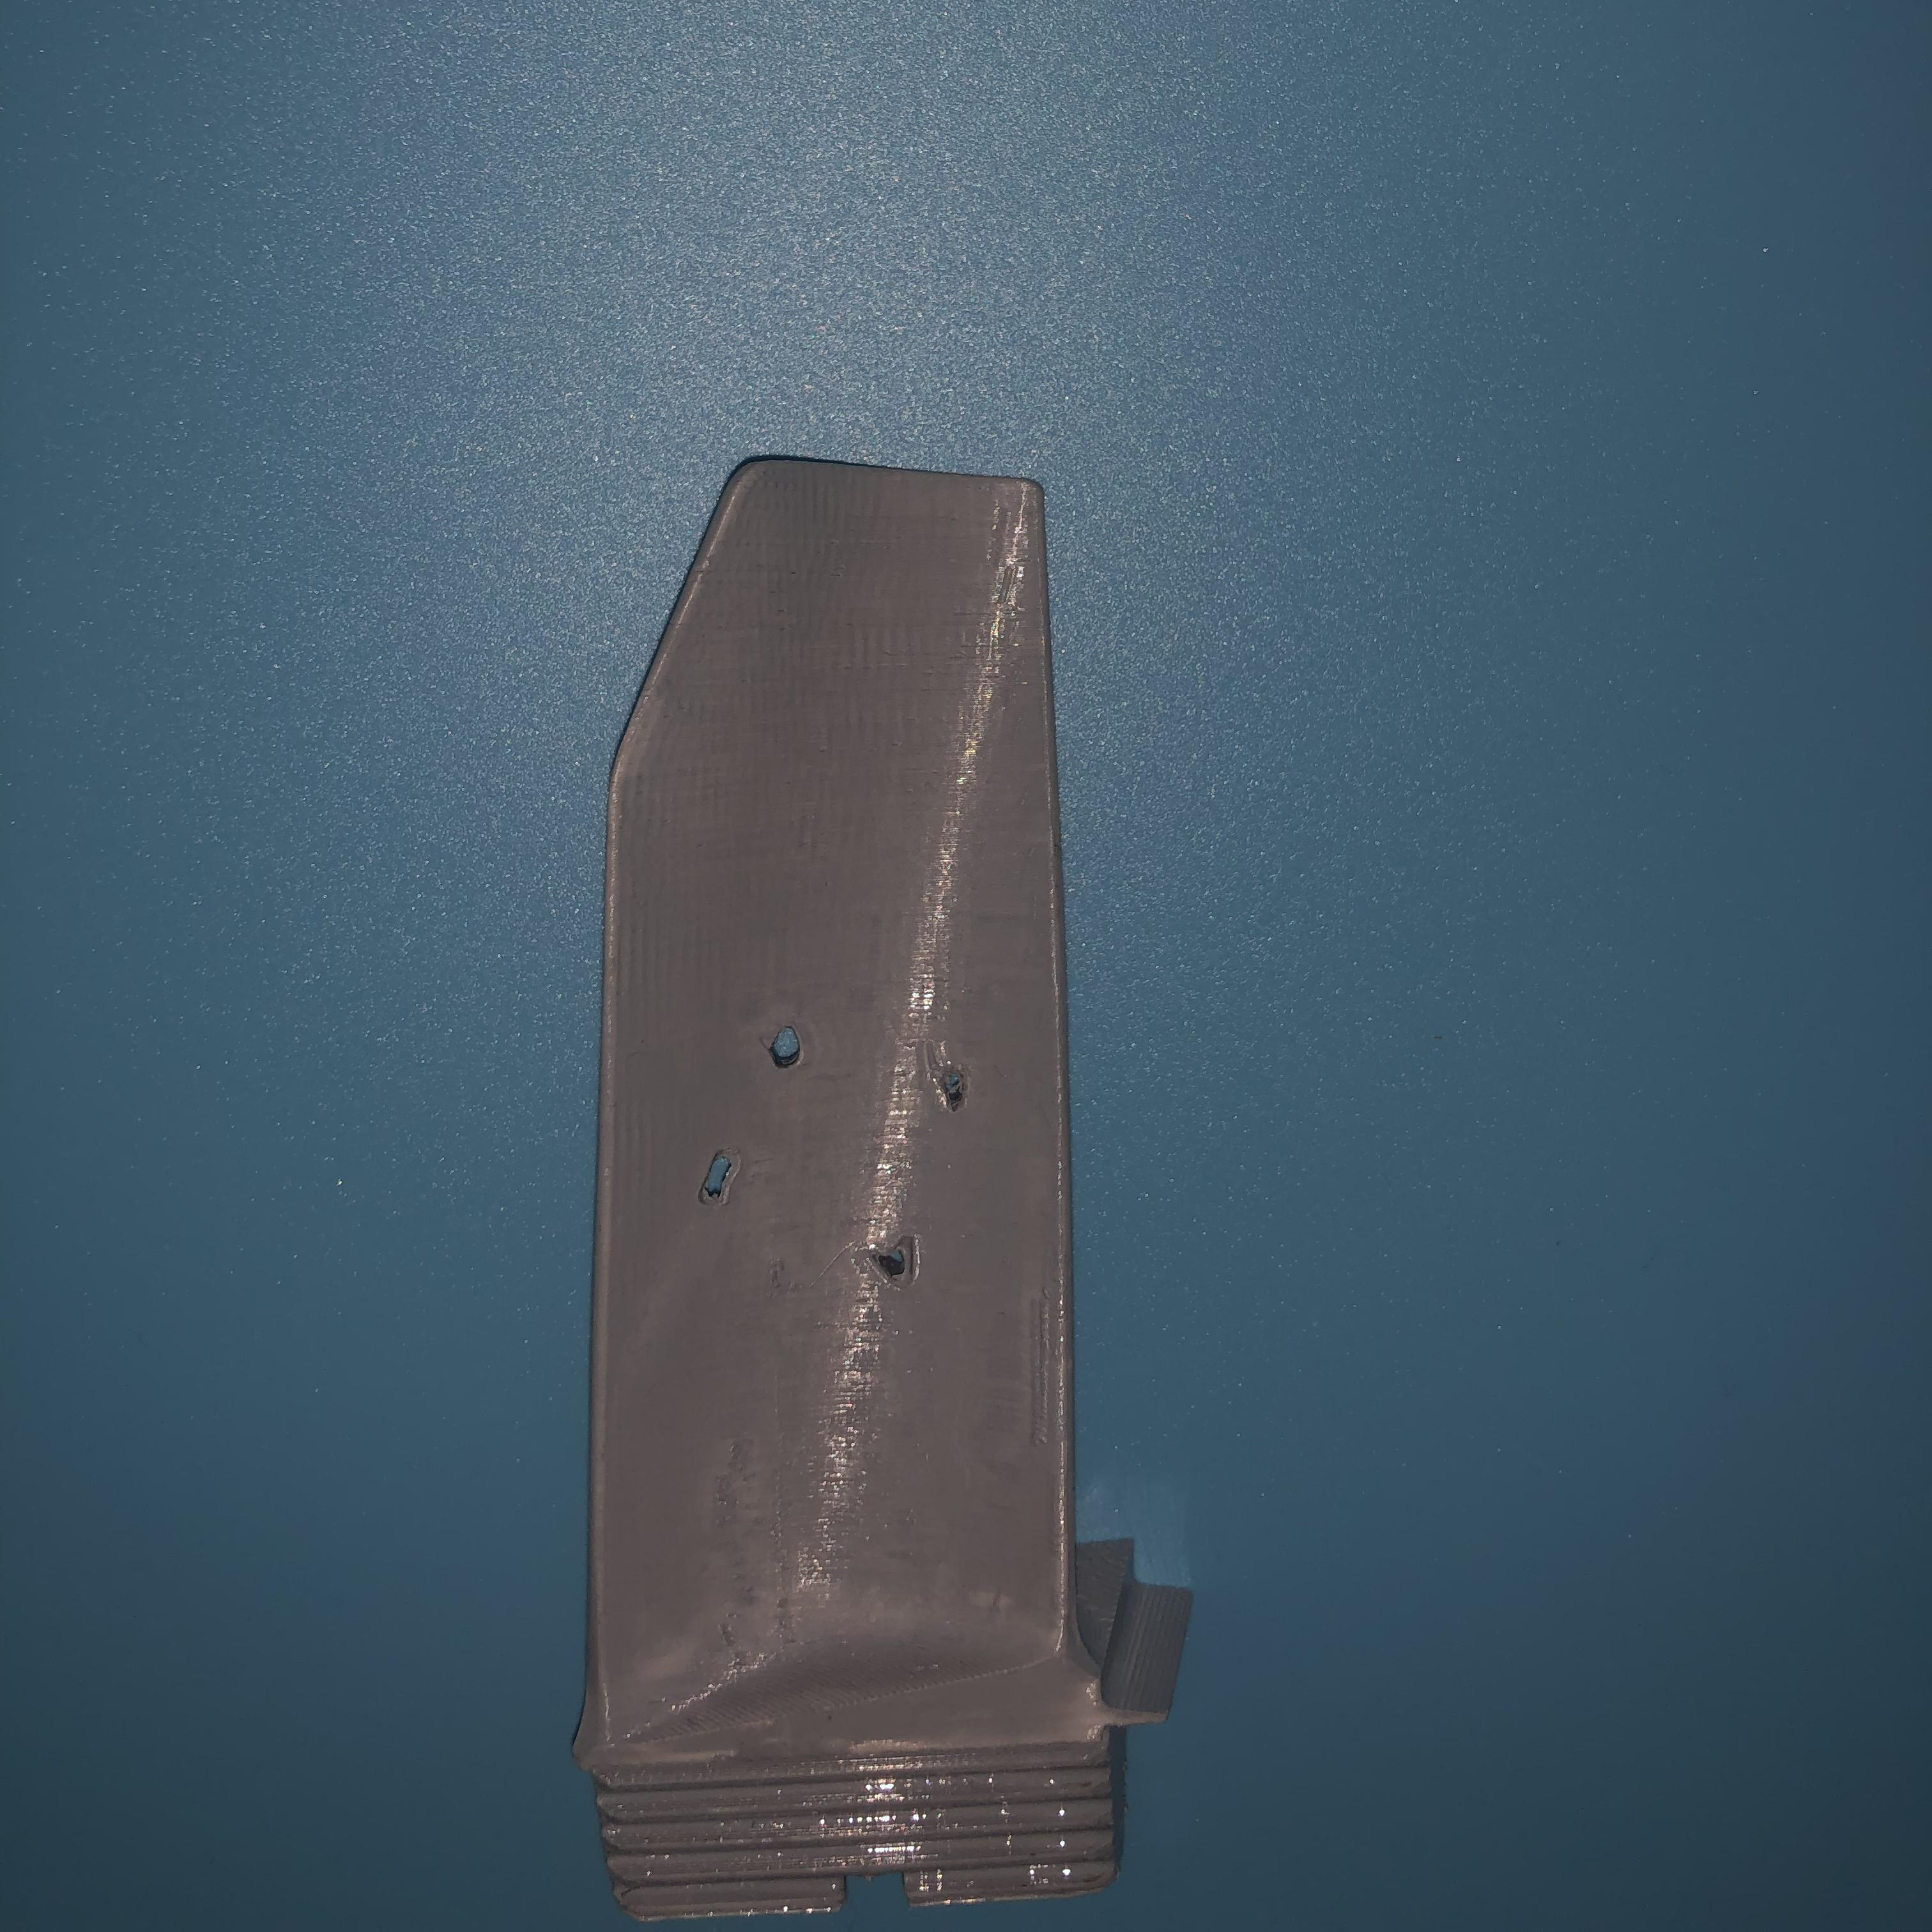breakdown: (870, 1047, 987, 1286), (692, 1021, 819, 1207)
